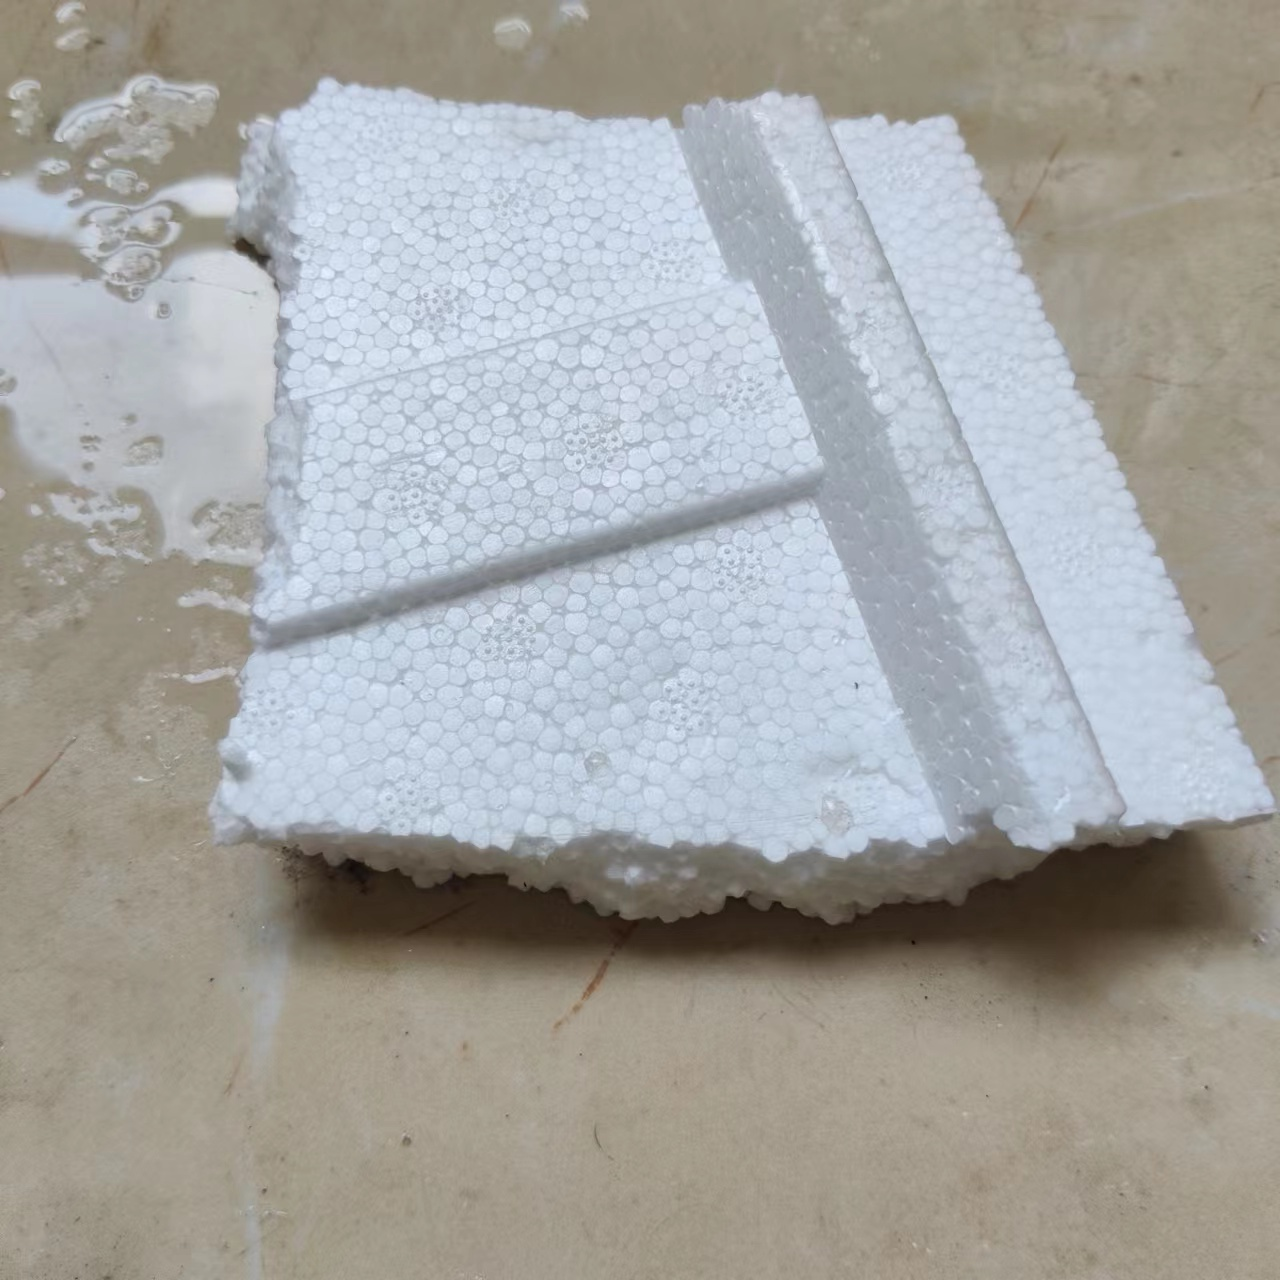5/可回收垃圾/泡沫: (209, 74, 1273, 924)
